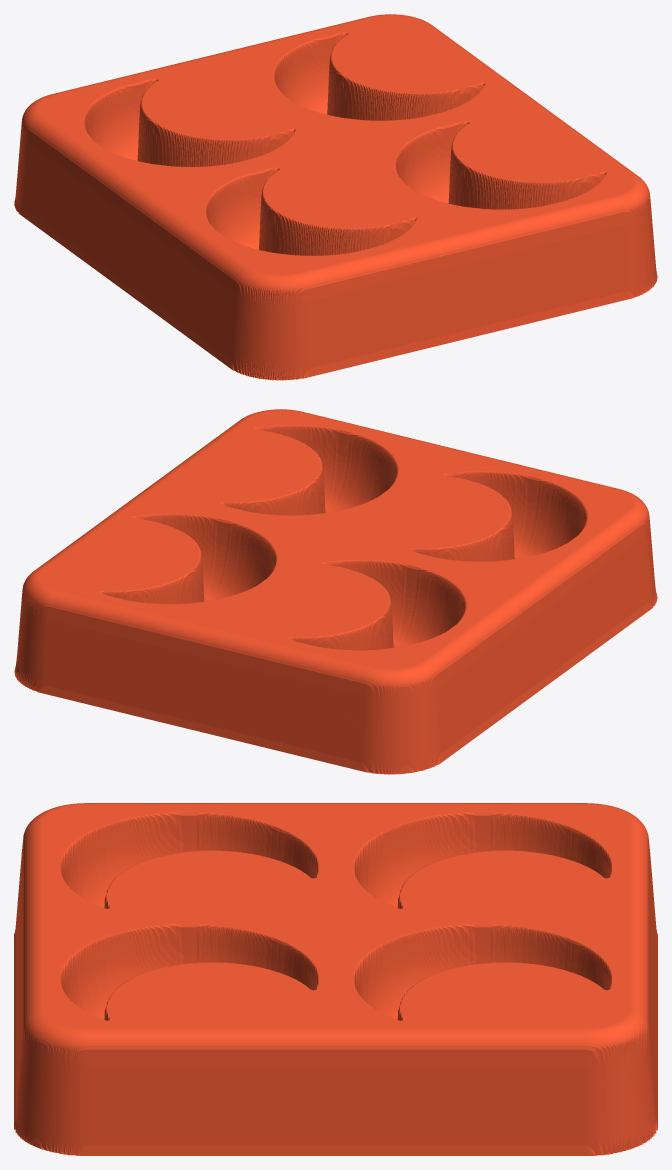
Rendered from mold.glb.
3 views of the same model, one above another, from view 1: azimuth 30°, elevation 25°; view 2: azimuth 150°, elevation 25°; view 3: azimuth 270°, elevation 25° (orthographic). The views are drawn at different scales.
Parts seen in each view (by area): view 1: geometry_0; view 2: geometry_0; view 3: geometry_0.
Part boxes in pixels (x1=…): geometry_0: x1=14, y1=14, x2=657, y2=380; geometry_0: x1=14, y1=409, x2=657, y2=774; geometry_0: x1=14, y1=803, x2=657, y2=1155.
Bounding box in the file's own units: 0.0736 × 0.0159 × 0.0808.
